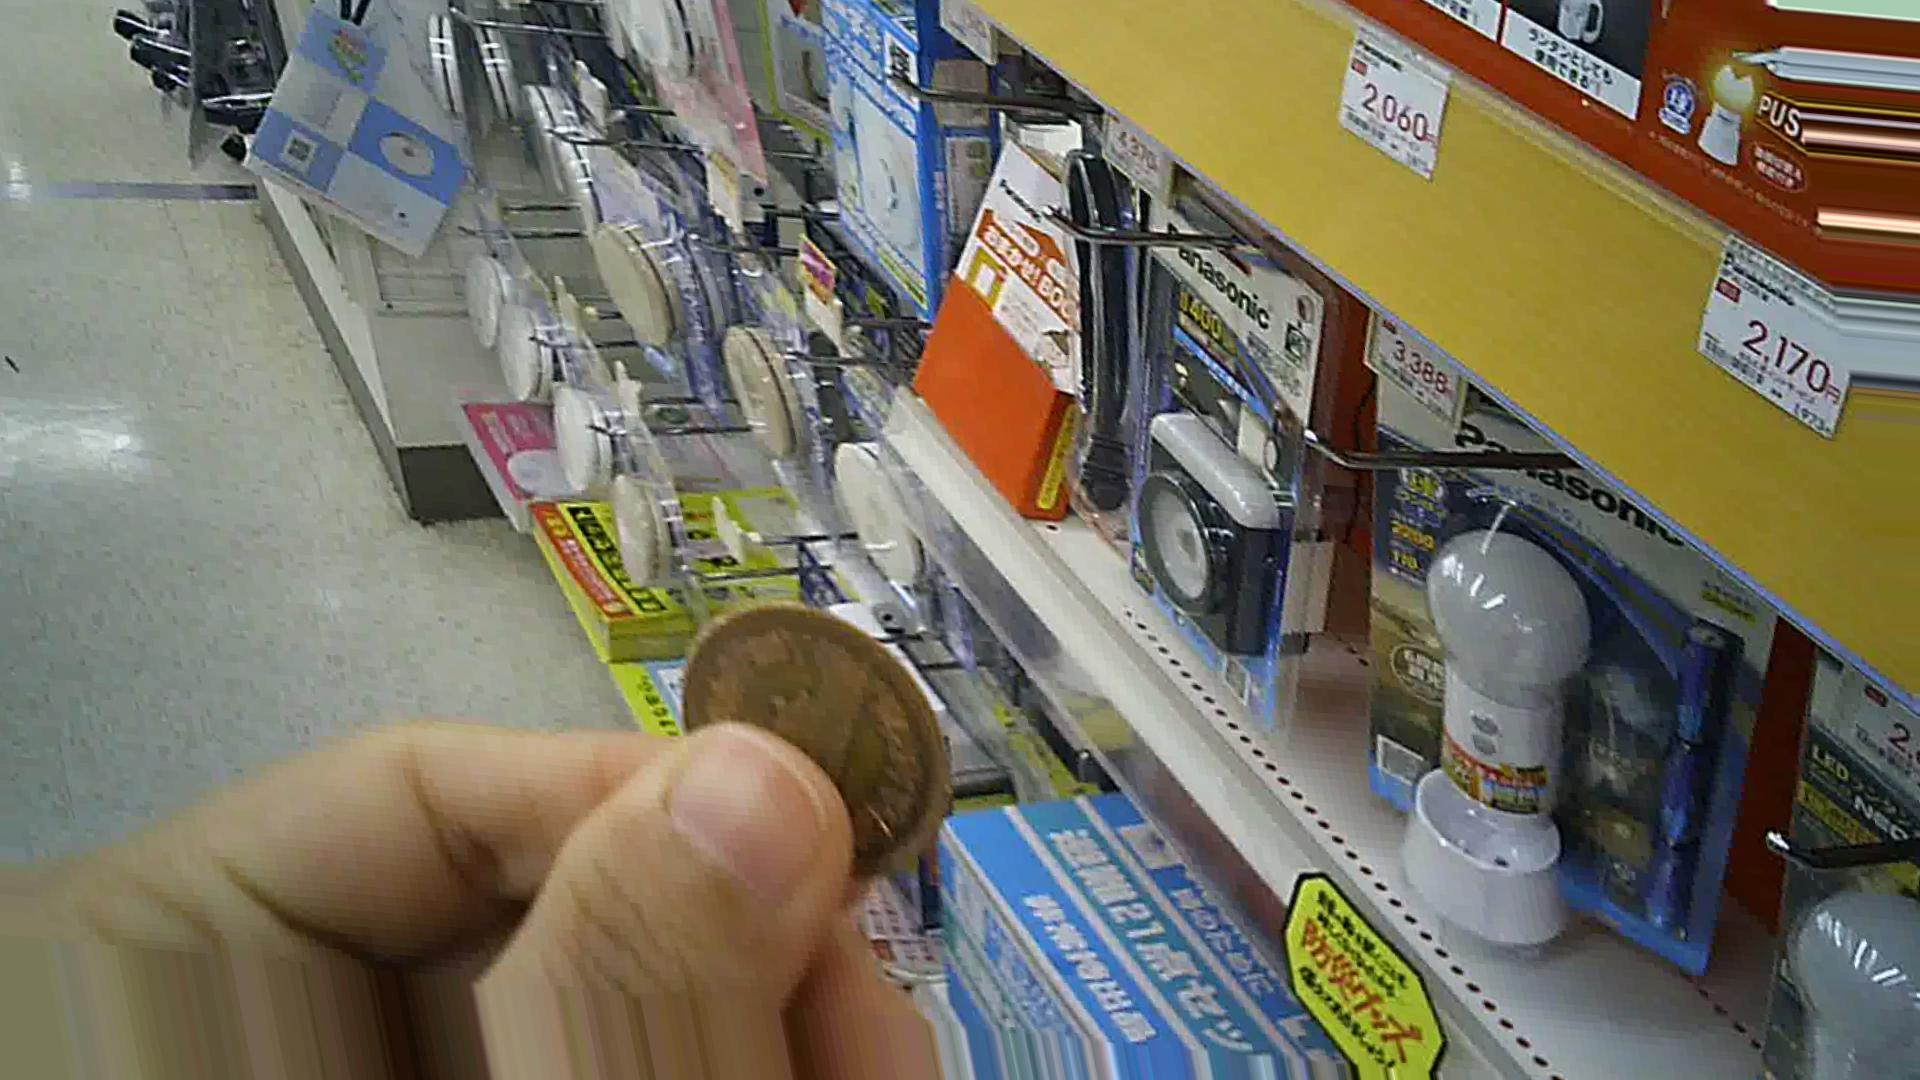10 Yen: (646, 597, 978, 887)
